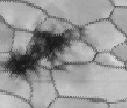good_void: (3, 24, 83, 80)
